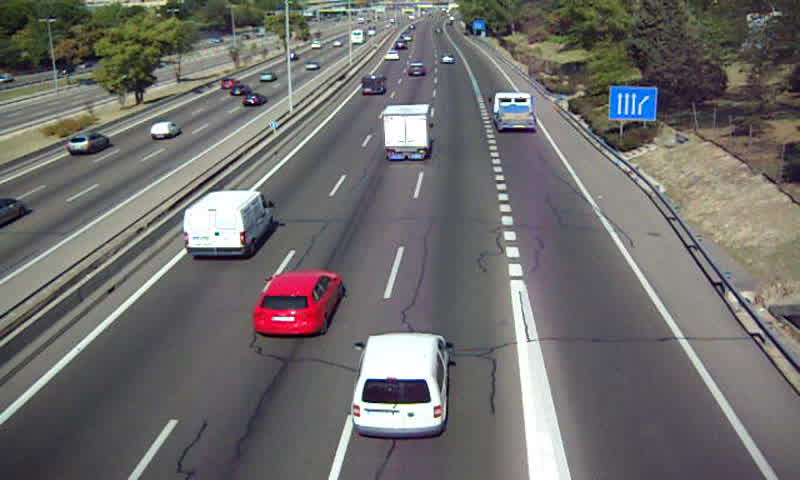car: (351, 333, 451, 437), (251, 269, 341, 336), (406, 62, 426, 78), (440, 54, 457, 66), (384, 49, 399, 62)
small-truck: (382, 104, 432, 161), (491, 92, 536, 131)
van: (184, 190, 273, 258), (359, 73, 387, 97)
